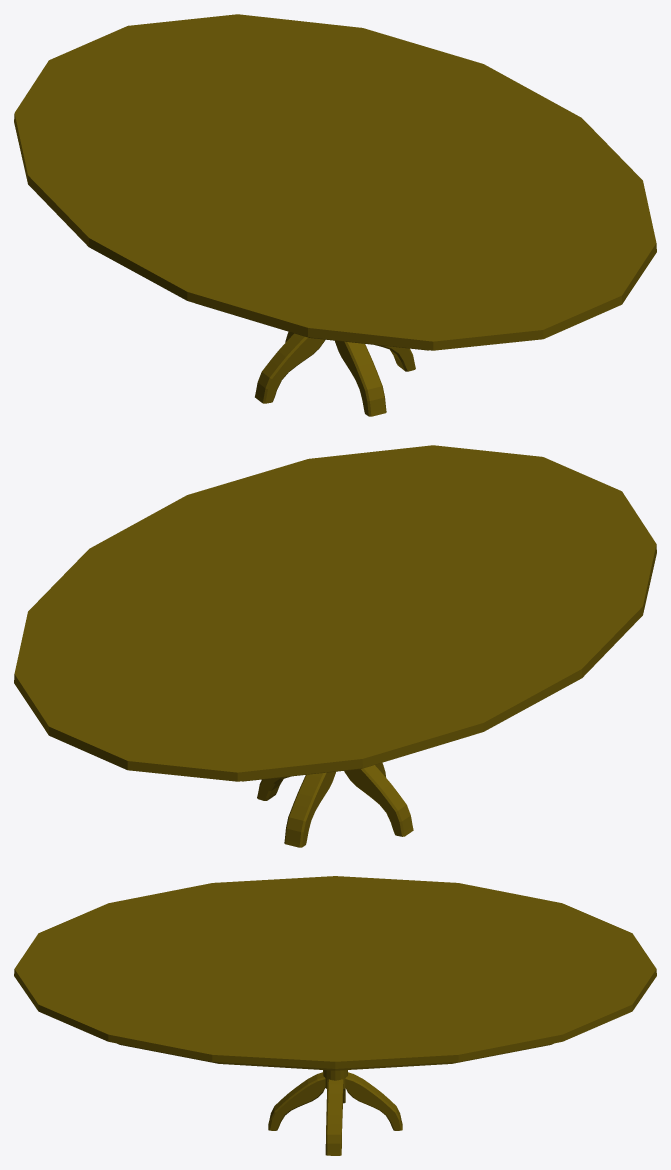
The model's file is mesa_jantar.fbx.
3 renders of one model, top to bottom at view 1: azimuth 30°, elevation 25°; view 2: azimuth 150°, elevation 25°; view 3: azimuth 270°, elevation 25°, orthographic. The views are drawn at different scales.
Parts seen in each view (by area): view 1: mesa2; view 2: mesa2; view 3: mesa2.
Part boxes in pixels (x1=…): mesa2: x1=14, y1=14, x2=656, y2=416; mesa2: x1=14, y1=445, x2=656, y2=847; mesa2: x1=14, y1=876, x2=656, y2=1155.
Size of the model in its own units: 2.39 by 0.9543 by 3.49.
